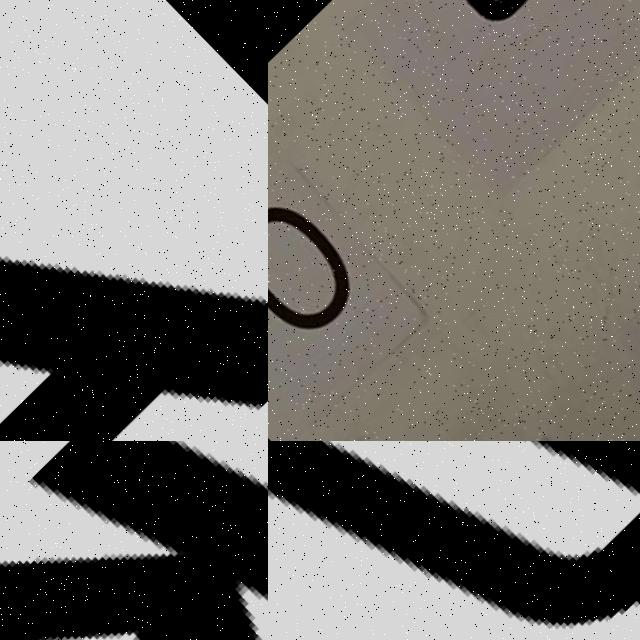0: (268, 178, 381, 358)
8: (410, 0, 555, 43)
A: (0, 0, 268, 441)
D: (268, 441, 640, 640)
K: (0, 441, 268, 640)
